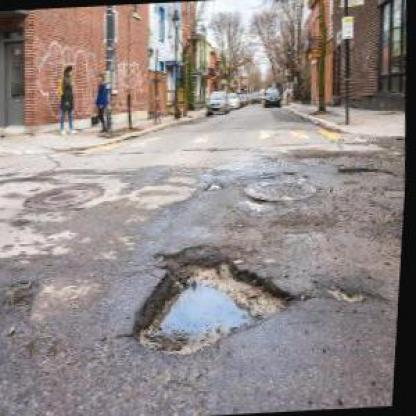pothole: (127, 237, 301, 361), (1, 276, 43, 313), (337, 161, 401, 184), (328, 280, 372, 305), (204, 177, 229, 193)
